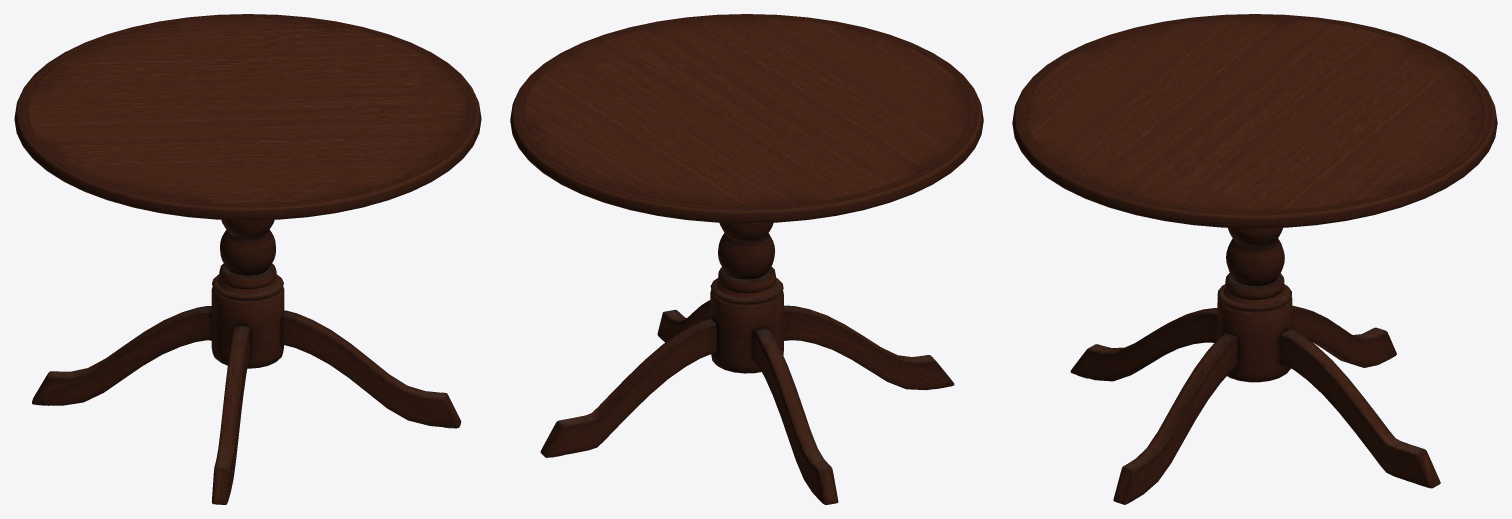
3 views of the same model, side by side, from view 1: azimuth 30°, elevation 25°; view 2: azimuth 150°, elevation 25°; view 3: azimuth 270°, elevation 25° (orthographic). The views are drawn at different scales.
Parts seen in each view (by area): view 1: round_wooden_table_01; view 2: round_wooden_table_01; view 3: round_wooden_table_01.
Part boxes in pixels (x1,y1,x2,y2): round_wooden_table_01: (14,14,481,504); round_wooden_table_01: (510,14,983,504); round_wooden_table_01: (1012,14,1497,504).
Size of the model in its own units: 120 by 86.18 by 120.
1 material, 1 textured.
